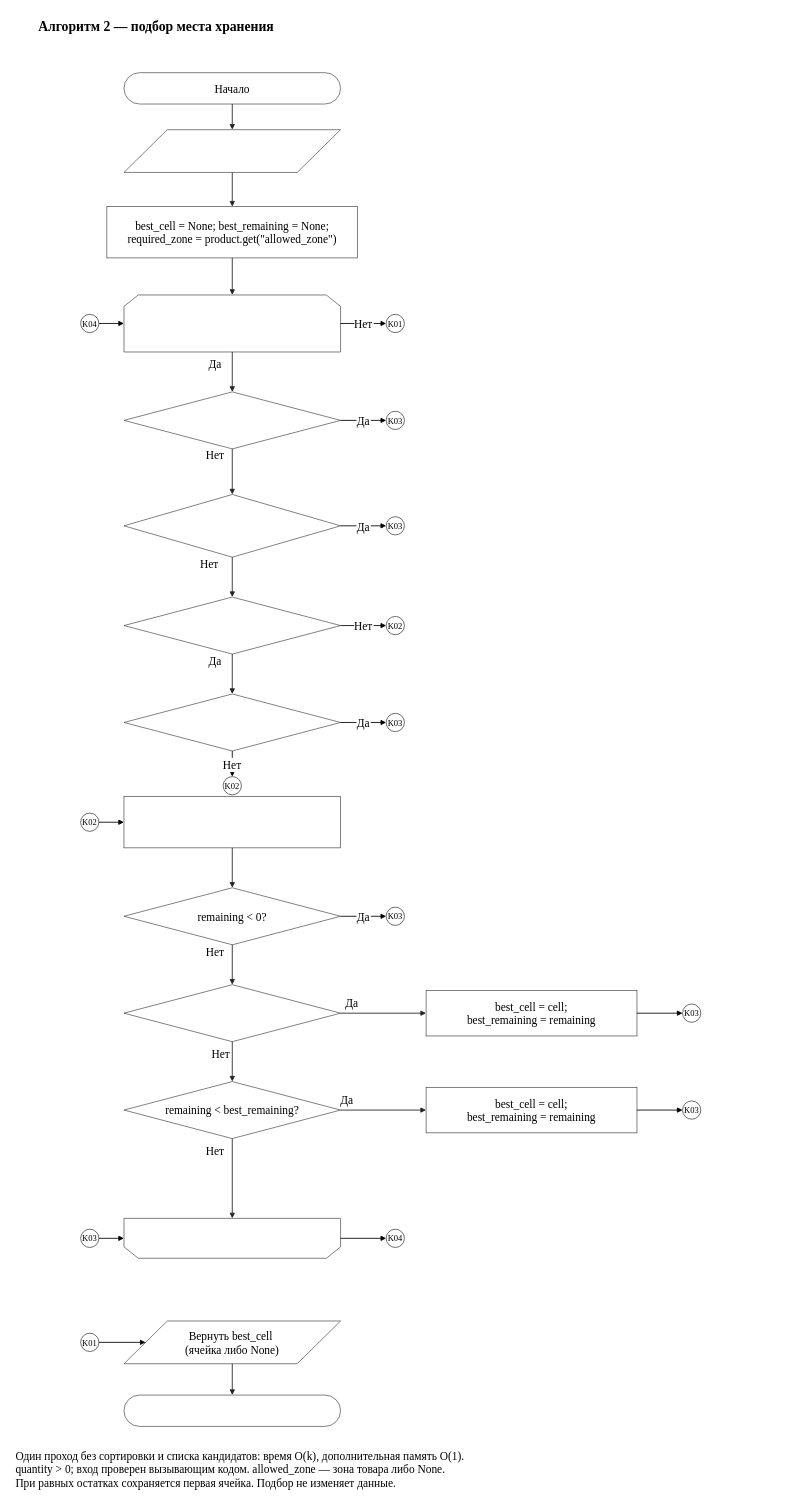
The diagram is 789 pixels wide and 1507 high, and some of its shapes have lost their labels. Each missing label, with the box of its shape:
best_cell is None?: (123, 984, 341, 1042)
C5: конец итерации: (123, 1218, 341, 1258)
C5: следующая cell из storage_cells есть?: (123, 294, 341, 352)
cell.status ≠ «доступна»?: (123, 391, 341, 449)
cell.storage_conditions ≠ product.storage_conditions?: (123, 494, 341, 557)
cell.zone ≠ required_zone?: (123, 693, 341, 751)
remaining = cell.available_capacity − quantity: (123, 796, 341, 848)
required_zone is not None?: (123, 597, 341, 654)
Конец: (123, 1395, 341, 1426)
Получить product, quantity, storage_cells: (123, 129, 341, 172)
